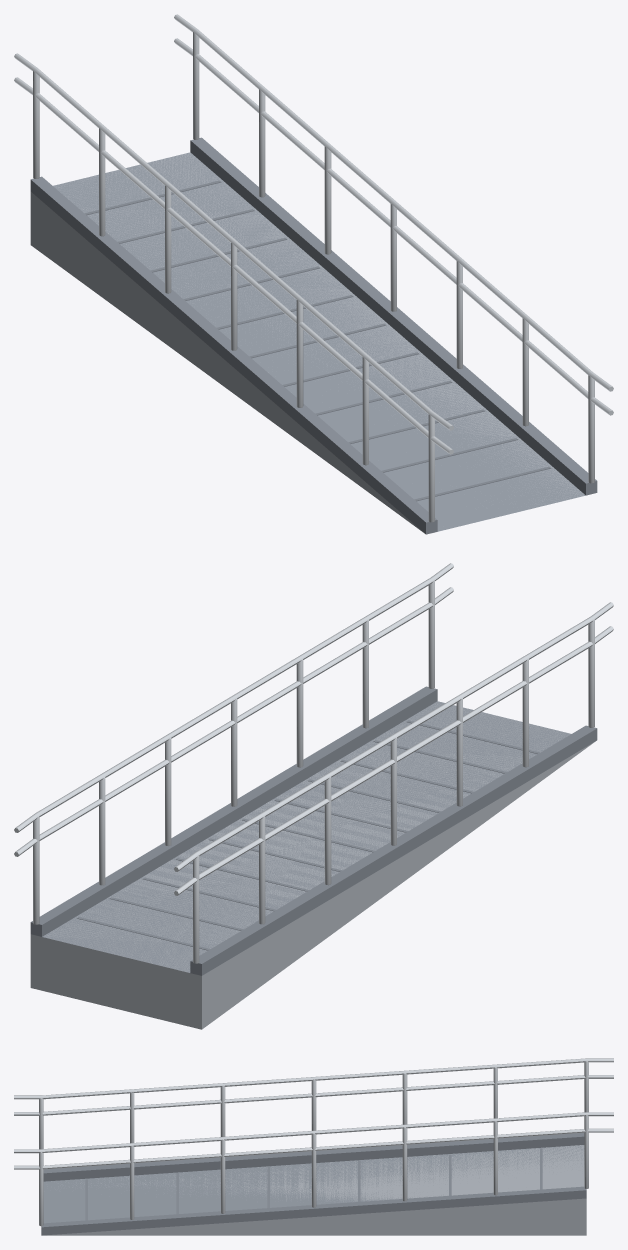
The model's file is rampa_h45.glb.
3 renders of one model, top to bottom at view 1: azimuth 30°, elevation 25°; view 2: azimuth 150°, elevation 25°; view 3: azimuth 270°, elevation 25°, orthographic. The views are drawn at different scales.
Visible parts, largest first — view 1: rampa_h45, colisao_malha; view 2: rampa_h45, colisao_malha; view 3: rampa_h45, colisao_malha.
Part boxes in pixels (left/top/right/bottom): rampa_h45: left=14, top=14, right=613, bottom=534; colisao_malha: left=53, top=152, right=585, bottom=531; rampa_h45: left=14, top=563, right=613, bottom=1029; colisao_malha: left=42, top=701, right=570, bottom=972; rampa_h45: left=14, top=1058, right=613, bottom=1235; colisao_malha: left=43, top=1145, right=584, bottom=1223.
Size of the model in its own units: 1.5 by 1.47 by 6.6.
1 material, 1 textured.
